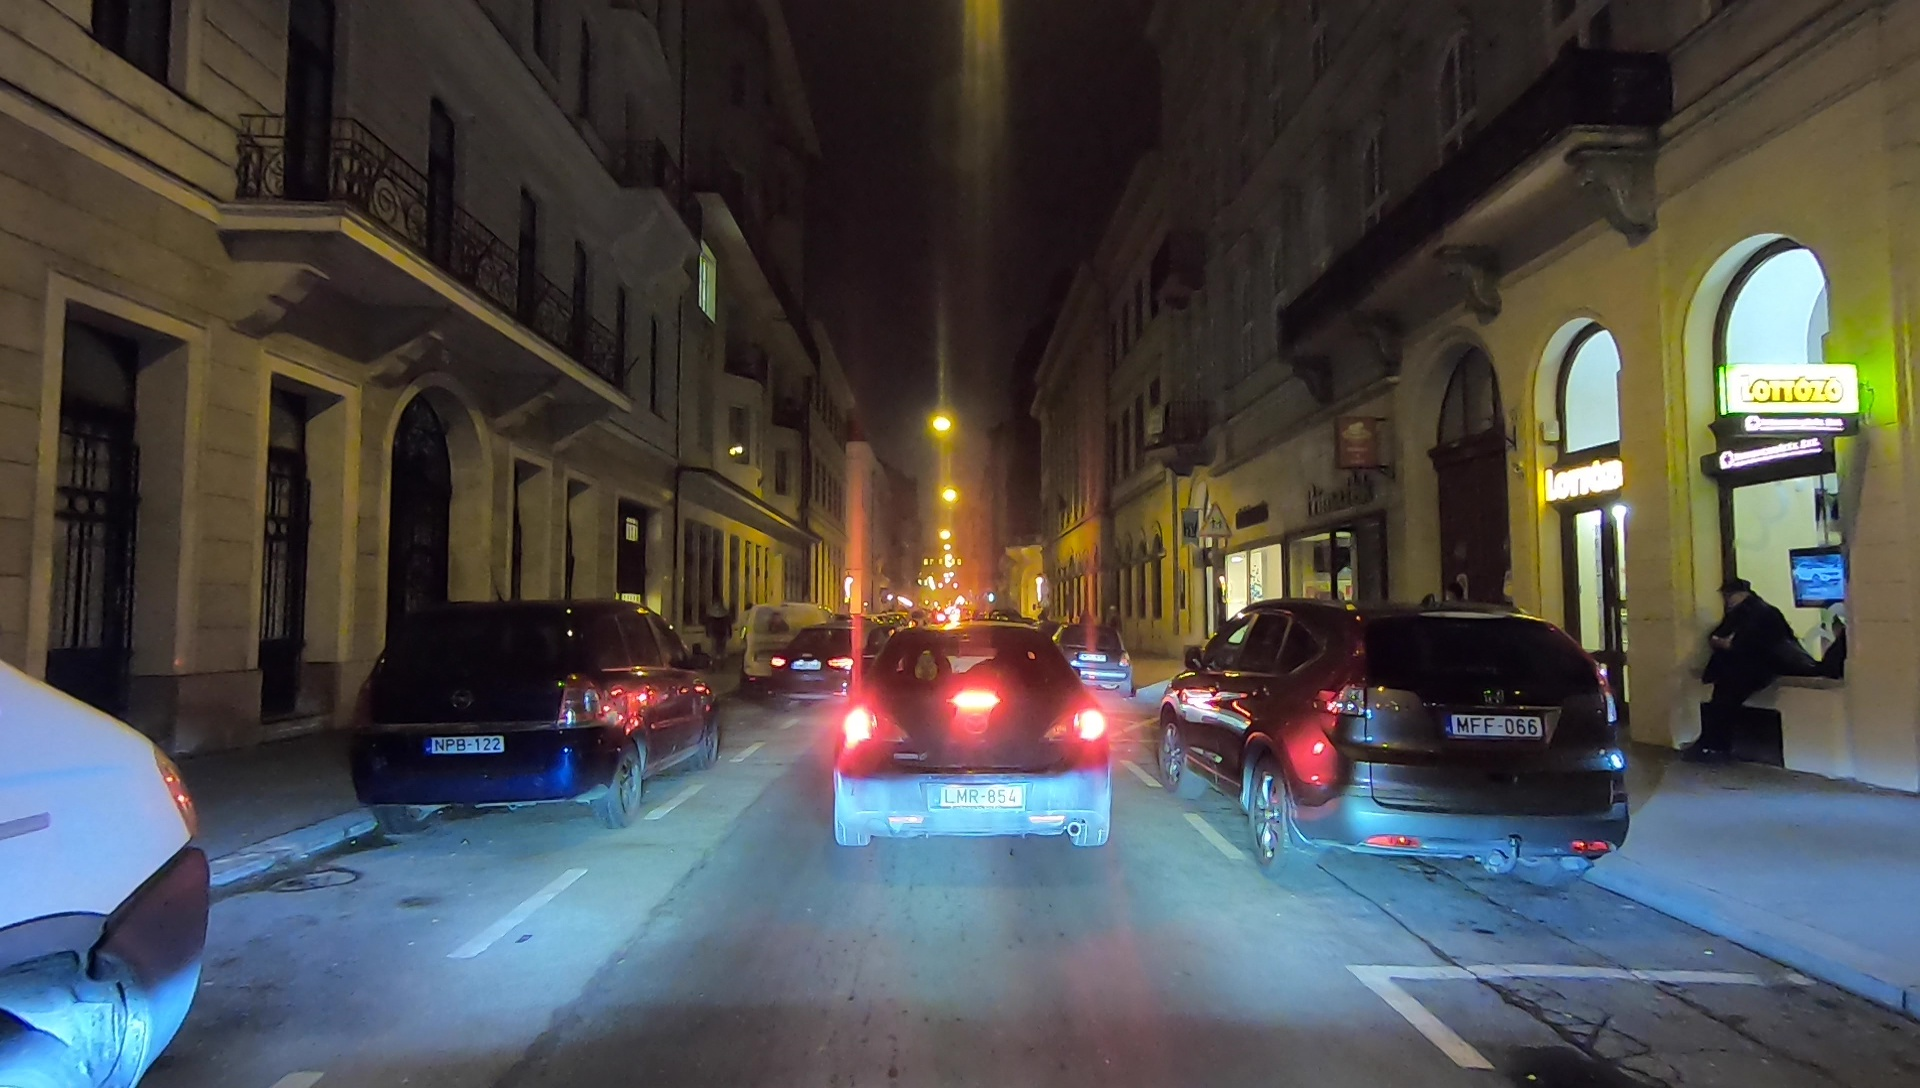person: (1710, 578, 1786, 758), (701, 595, 738, 674)
